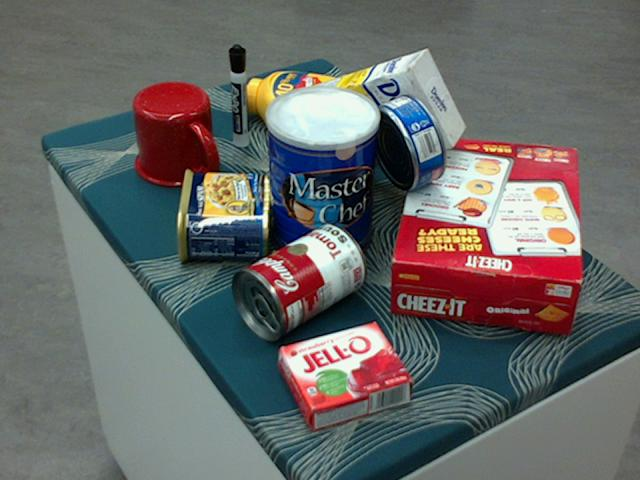cracker_box: (387, 135, 580, 333)
gelatin_box: (278, 321, 412, 429)
large_marker: (227, 43, 250, 147)
master_chef_can: (264, 87, 378, 269)
mug: (133, 81, 220, 187)
mustard_bottle: (231, 70, 399, 147)
potted_meat_can: (175, 169, 268, 263)
sugar_box: (274, 49, 464, 178)
tomato_soup_can: (229, 224, 365, 339)
tuna_fish_can: (369, 92, 446, 189)
